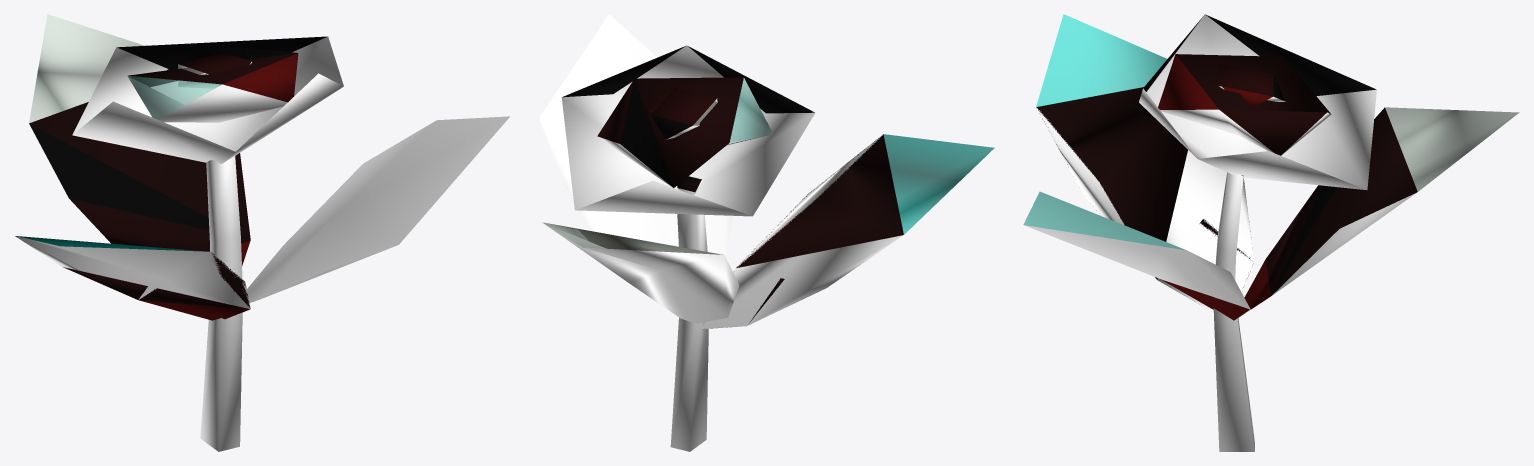
The picture shows the model from 3 angles, left to right: view 1: azimuth 30°, elevation 25°; view 2: azimuth 150°, elevation 25°; view 3: azimuth 270°, elevation 25°; orthographic projection. The views are drawn at different scales.
Bounding box in the file's own units: 0.9484 × 0.8077 × 0.95.
